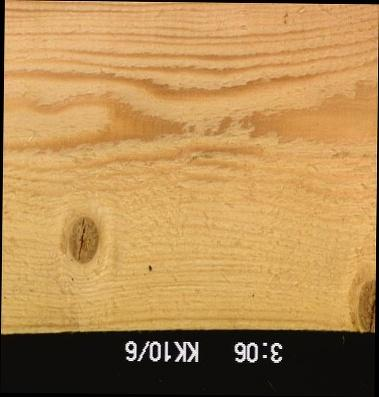edge_knot: (356, 278, 374, 333)
sound_knot: (67, 214, 100, 264)
